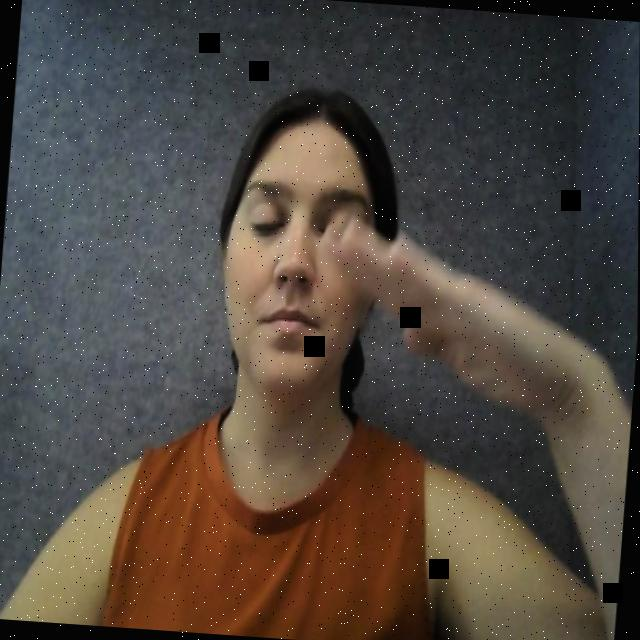Paper: (320, 210, 610, 431)
